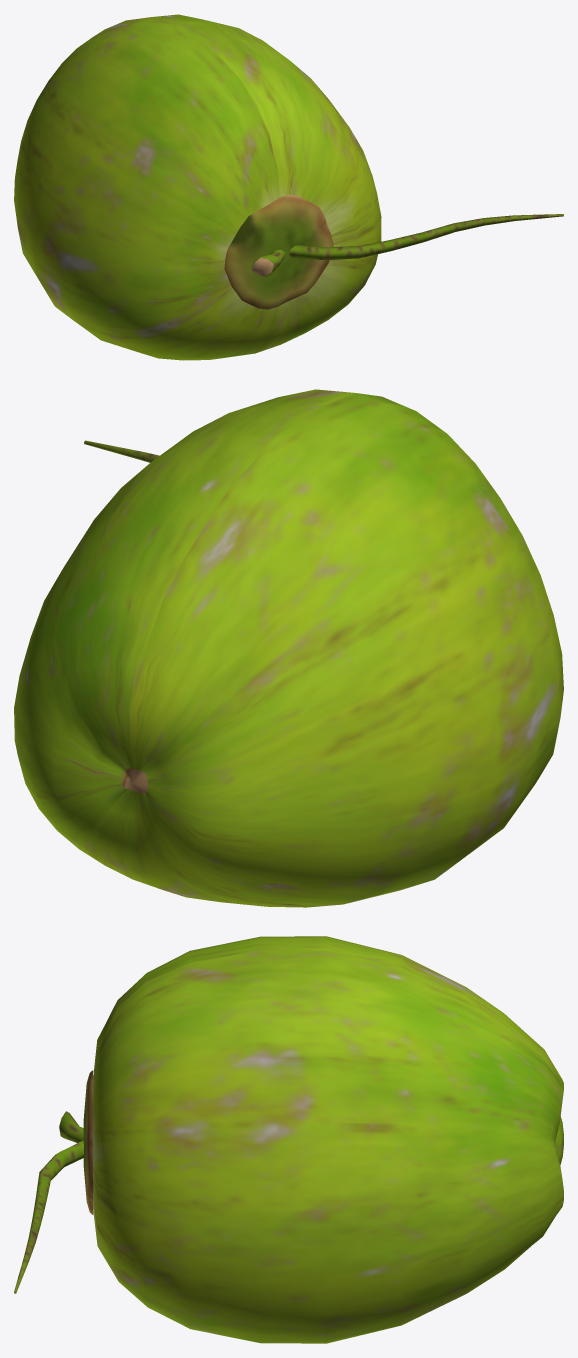
The model's file is kelapa ijo.fbx.
3 views of the same model, one above another, from view 1: azimuth 30°, elevation 25°; view 2: azimuth 150°, elevation 25°; view 3: azimuth 270°, elevation 25° (orthographic). The views are drawn at different scales.
Parts seen in each view (by area): view 1: Sphere; view 2: Sphere; view 3: Sphere.
Part boxes in pixels (<box>): Sphere: <box>14,14,563,360</box>; Sphere: <box>14,389,563,907</box>; Sphere: <box>14,936,563,1343</box>.
Size of the model in its own units: 256 by 183 by 250.
1 material, 1 textured.
